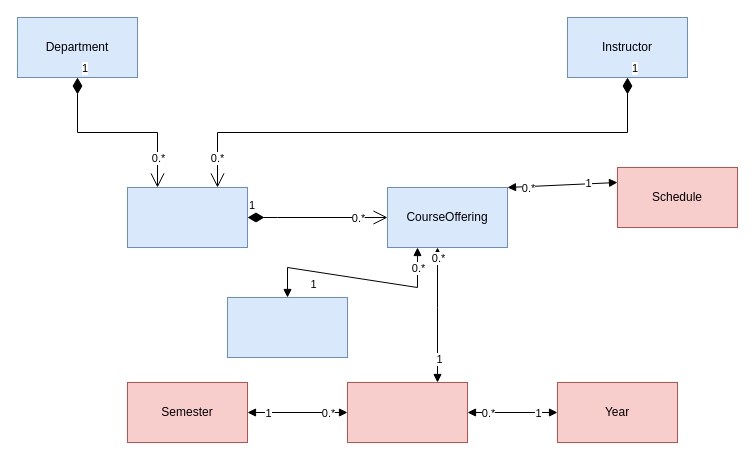
Image size: 755x460. Some labels were removed from this diagram. Here are the shapes that lost their labels. From the top down, the centre of each, then its label:
At pixel 187 217: "Course".
At pixel 287 327: "Location".
At pixel 407 412: "Term".
